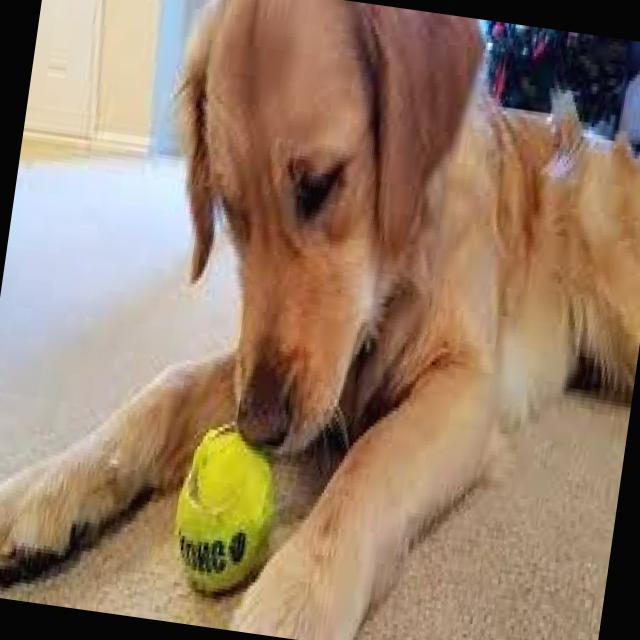Tennis Ball: (165, 427, 280, 598)
